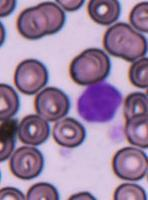L: (75, 78, 123, 124)
